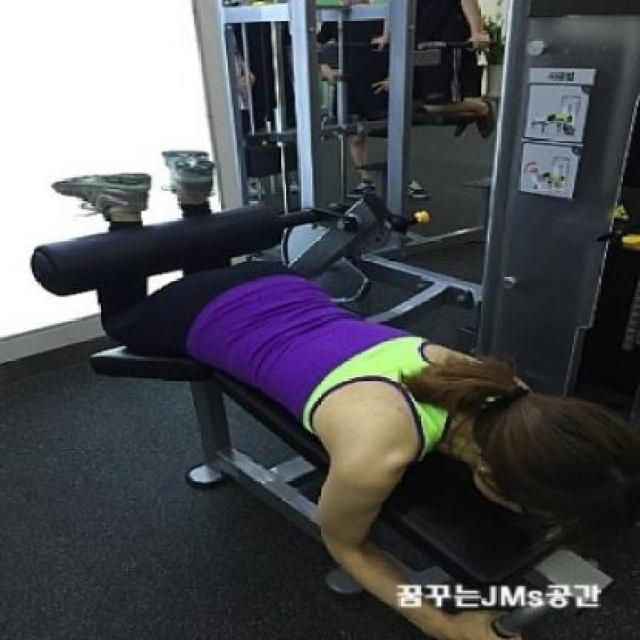reg curl machine: (20, 3, 637, 640)
